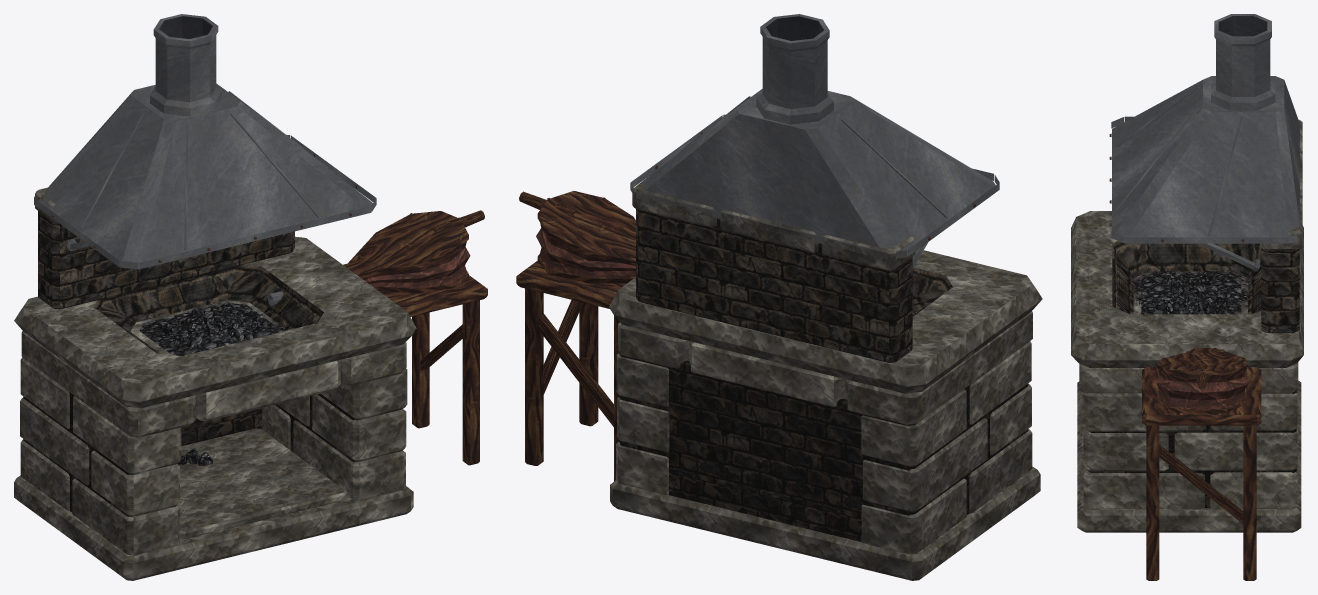
The model's file is Forja.glb.
The picture shows the model from 3 angles, left to right: view 1: azimuth 30°, elevation 25°; view 2: azimuth 150°, elevation 25°; view 3: azimuth 270°, elevation 25°; orthographic projection. The views are drawn at different scales.
Parts seen in each view (by area): view 1: Alvenaria, Coifa e duto, Fole lateral, Carvoeira; view 2: Alvenaria, Coifa e duto, Fole lateral, Carvoeira; view 3: Alvenaria, Coifa e duto, Fole lateral, Carvoeira.
Part boxes in pixels (x1,y1,x2,y2): Alvenaria: [14, 187, 416, 580]; Coifa e duto: [34, 14, 376, 269]; Fole lateral: [343, 210, 487, 465]; Carvoeira: [93, 264, 323, 355]; Alvenaria: [609, 183, 1042, 580]; Coifa e duto: [630, 14, 999, 267]; Fole lateral: [516, 191, 635, 481]; Carvoeira: [912, 267, 952, 316]; Alvenaria: [1071, 119, 1303, 532]; Coifa e duto: [1109, 14, 1300, 271]; Fole lateral: [1142, 348, 1261, 580]; Carvoeira: [1112, 241, 1261, 314].
Bounding box in the file's own units: 1.92 × 1.99 × 0.954.
8 materials, 8 textured.
